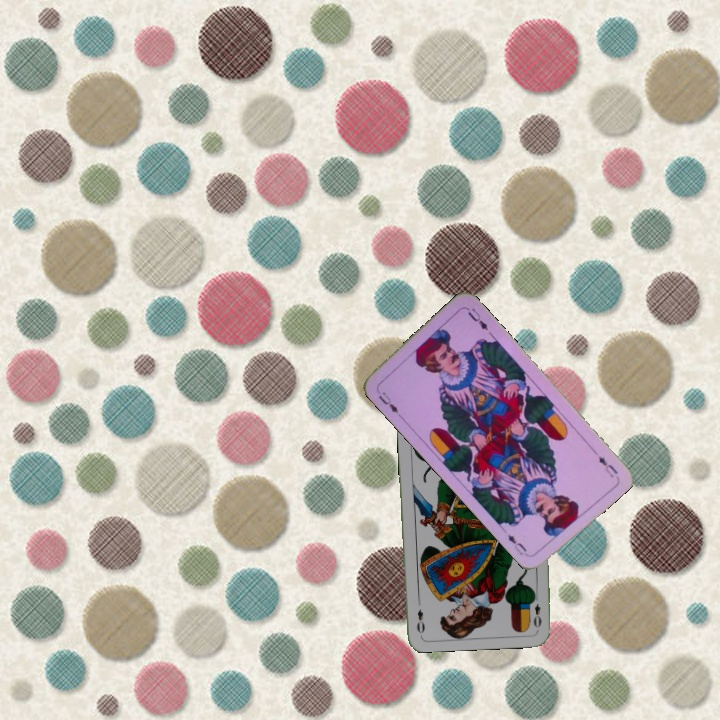EO: (528, 590, 544, 630)
EU: (374, 387, 404, 419), (594, 452, 620, 480)
